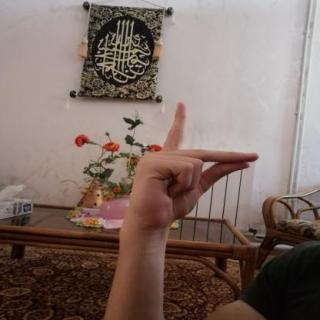TAA: (118, 97, 268, 236)
